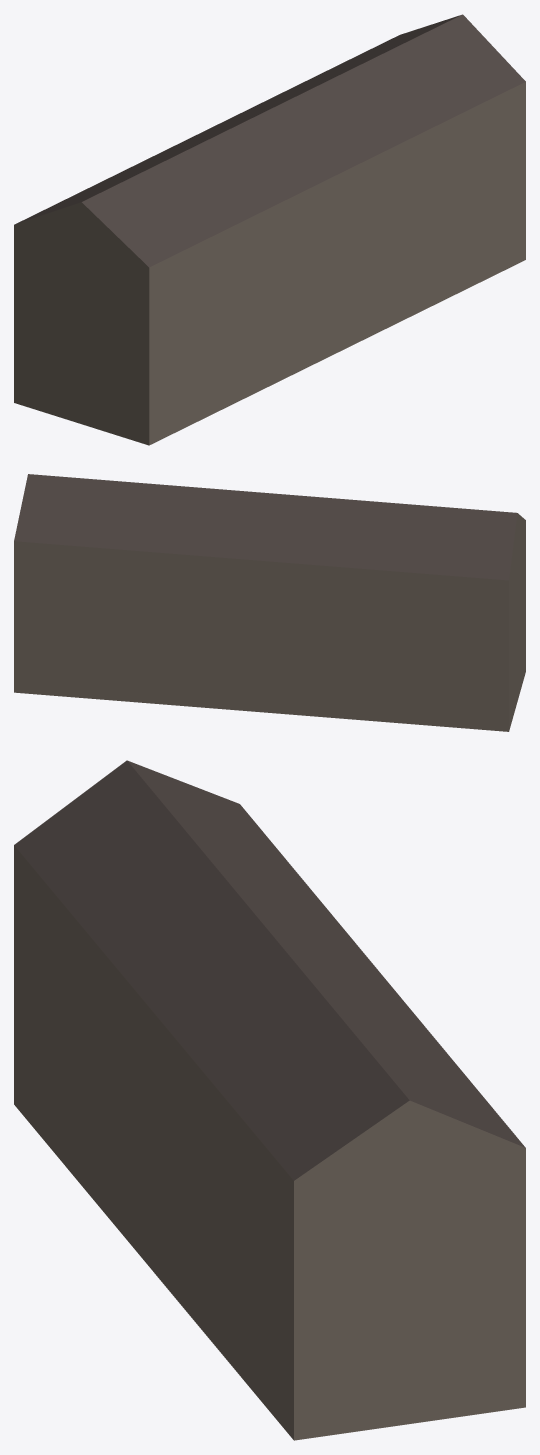
The picture shows the model from 3 angles, top to bottom: view 1: azimuth 30°, elevation 25°; view 2: azimuth 150°, elevation 25°; view 3: azimuth 270°, elevation 25°; orthographic projection. The views are drawn at different scales.
Visible parts, largest first — view 1: HP-w505661370; view 2: HP-w505661370; view 3: HP-w505661370.
Part boxes in pixels (<box>): HP-w505661370: <box>14,14,525,445</box>; HP-w505661370: <box>14,474,525,731</box>; HP-w505661370: <box>14,760,525,1440</box>.
Size of the model in its own units: 28.06 by 11.23 by 16.1.
